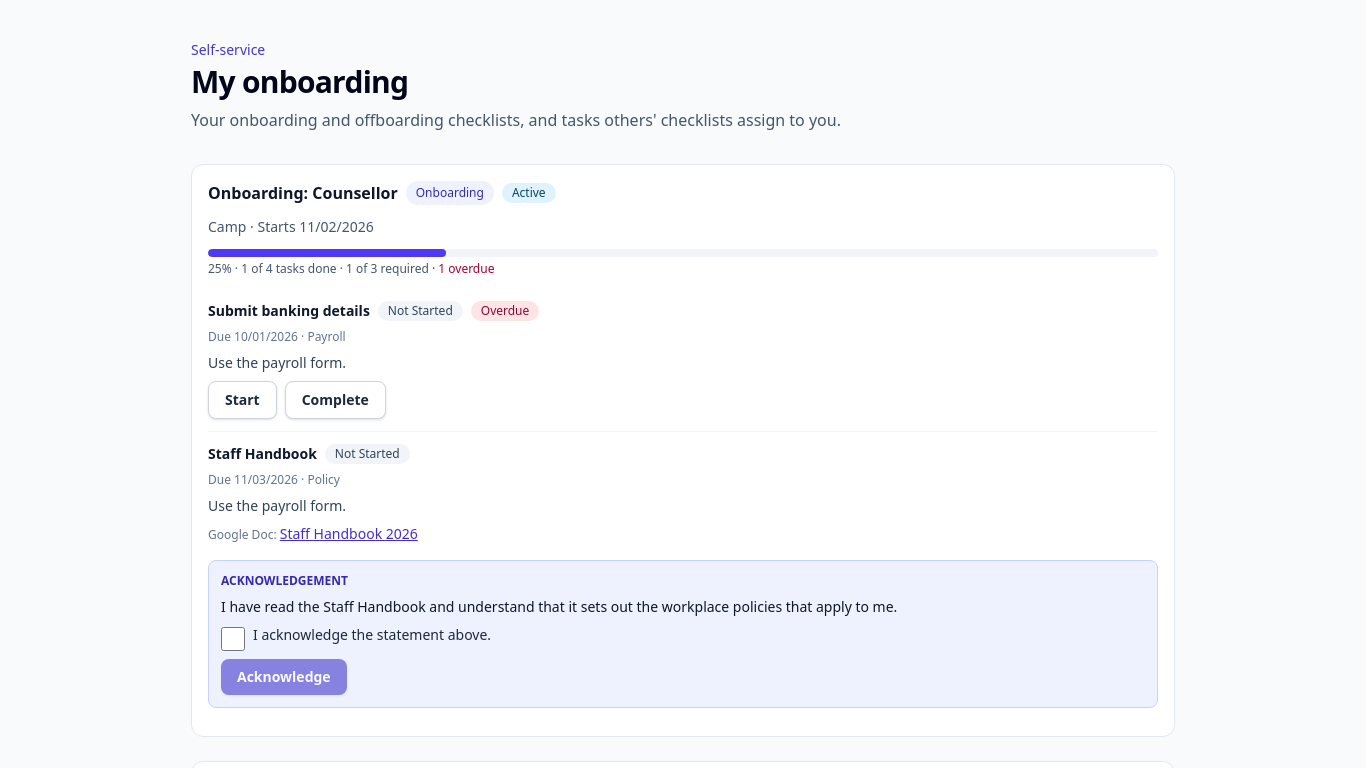
Test case: MyOnboardingPage › acknowledges the exact statement only after the checkbox is ticked
The image size is (1366, 768).
Check: the text "I have read the Staff Handbook and understand that it sets out the workplace policies that apply to me." is shown, box [221,597,897,616]
Check: the button "Acknowledge" is disabled, box [221,659,347,695]
Submit the form named "Acknowledge Staff Handbook", box [208,560,1158,708]
Click the checkbox labelled "I acknowledge the statement above." at (233, 639), box [221,627,245,651]
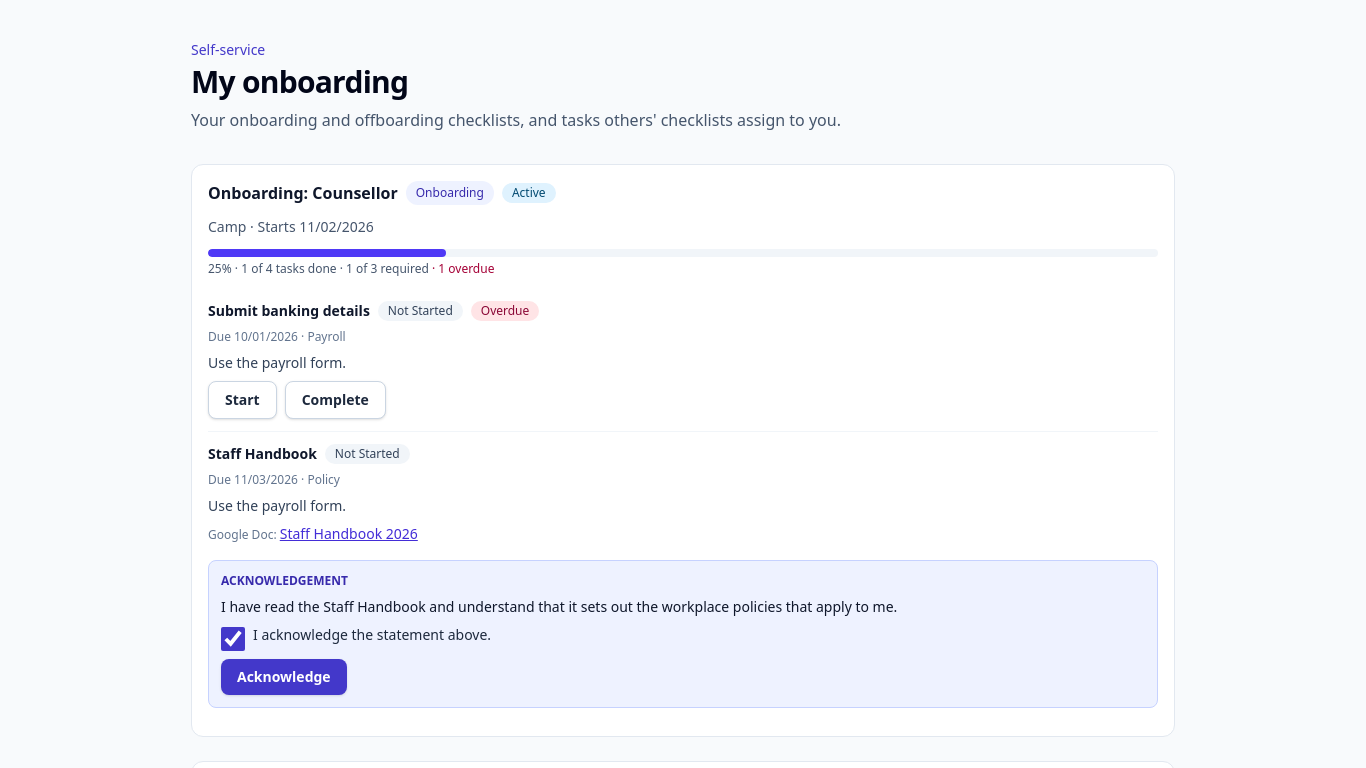
Check: the button "Acknowledge" is enabled
Click the button "Acknowledge" at (284, 677), box [221,659,347,695]
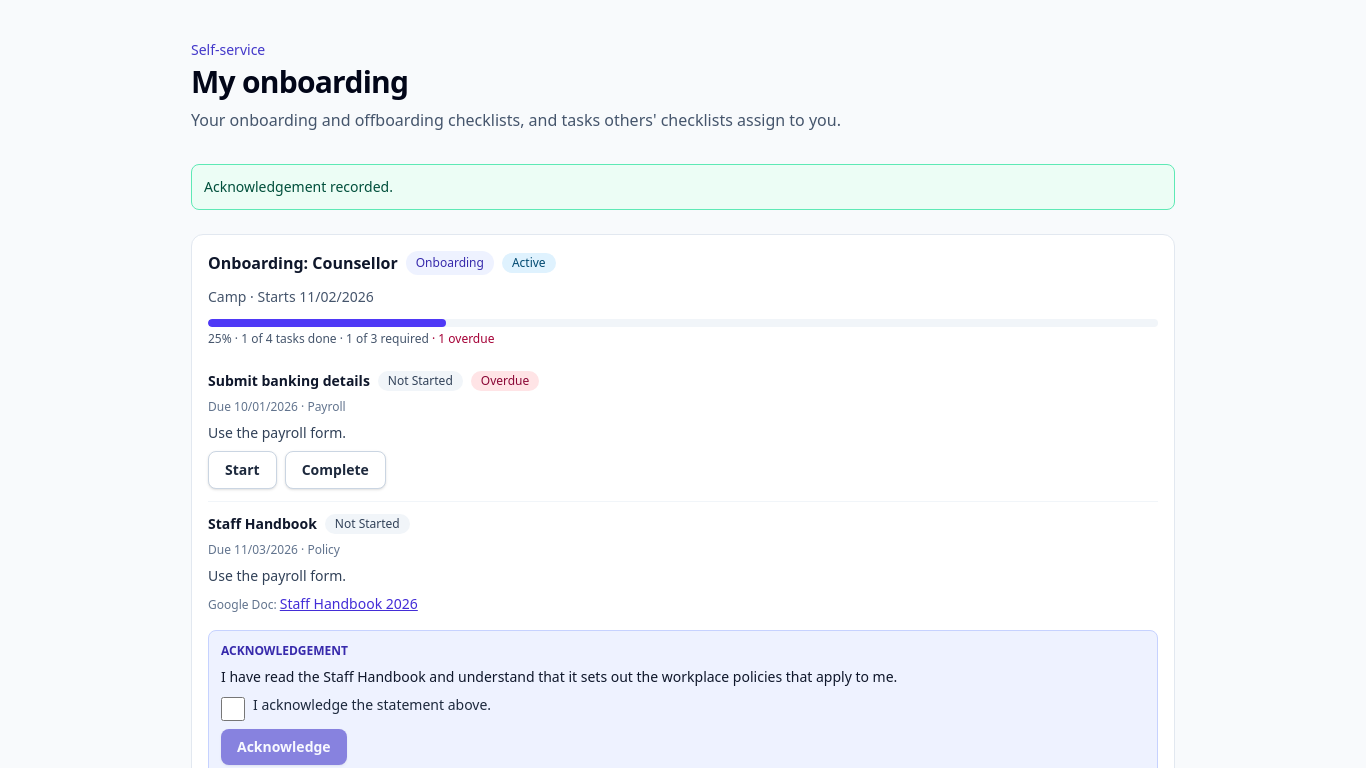
Check: the text "Acknowledgement recorded." is shown, box [191,164,1175,210]
